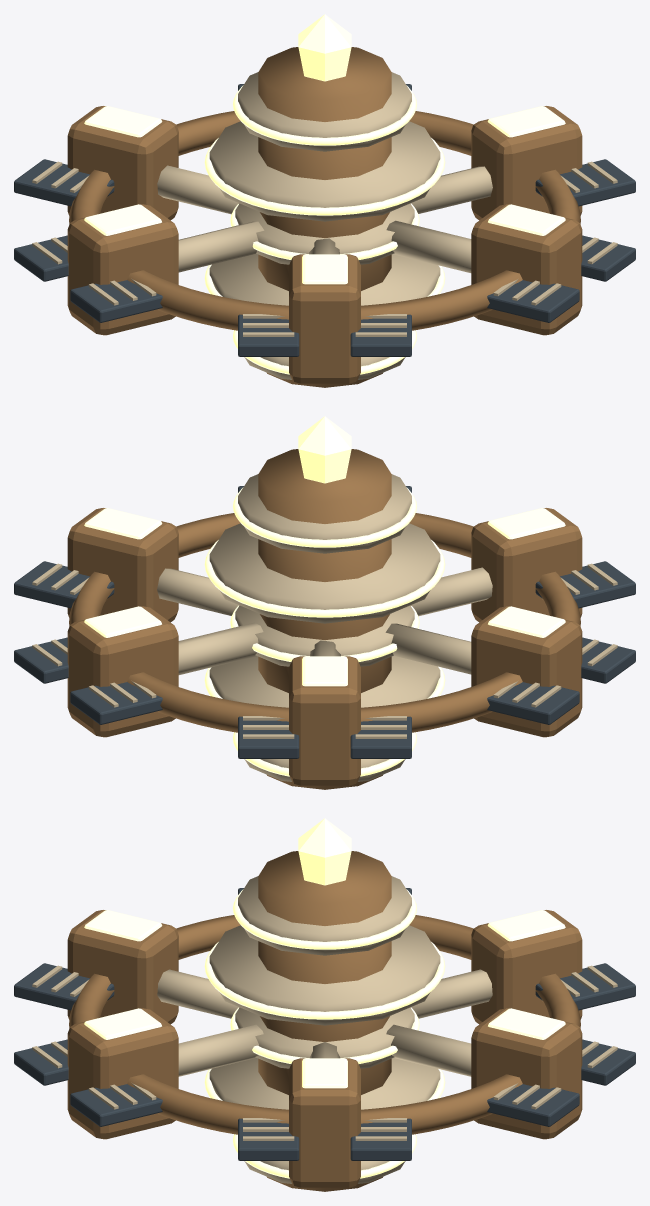
The model's file is skill-station.glb.
3 renders of one model, top to bottom at view 1: azimuth 30°, elevation 25°; view 2: azimuth 150°, elevation 25°; view 3: azimuth 270°, elevation 25°, orthographic.
Parts seen in each view (by area): view 1: idle_rotor_hull.006, body_ceramic.006, idle_rotor_dark.006, body_hull.006, idle_rotor_ceramic.006, body_light.006, idle_rotor_light.006; view 2: idle_rotor_hull.006, body_ceramic.006, idle_rotor_dark.006, body_hull.006, idle_rotor_ceramic.006, body_light.006, idle_rotor_light.006; view 3: idle_rotor_hull.006, body_ceramic.006, idle_rotor_dark.006, idle_rotor_ceramic.006, body_hull.006, body_light.006, idle_rotor_light.006.
Boxes of the visible parts, x1=… form: idle_rotor_hull.006: x1=67, y1=106, x2=582, y2=383; body_ceramic.006: x1=209, y1=72, x2=440, y2=379; idle_rotor_dark.006: x1=14, y1=84, x2=635, y2=356; body_hull.006: x1=258, y1=47, x2=391, y2=387; idle_rotor_ceramic.006: x1=32, y1=161, x2=617, y2=336; body_light.006: x1=204, y1=14, x2=445, y2=374; idle_rotor_light.006: x1=84, y1=106, x2=565, y2=284; idle_rotor_hull.006: x1=67, y1=508, x2=582, y2=785; body_ceramic.006: x1=209, y1=474, x2=440, y2=781; idle_rotor_dark.006: x1=14, y1=486, x2=635, y2=758; body_hull.006: x1=258, y1=449, x2=391, y2=789; idle_rotor_ceramic.006: x1=32, y1=563, x2=617, y2=738; body_light.006: x1=204, y1=416, x2=445, y2=776; idle_rotor_light.006: x1=84, y1=508, x2=565, y2=686; idle_rotor_hull.006: x1=67, y1=910, x2=582, y2=1187; body_ceramic.006: x1=209, y1=876, x2=440, y2=1183; idle_rotor_dark.006: x1=14, y1=888, x2=635, y2=1160; idle_rotor_ceramic.006: x1=32, y1=965, x2=617, y2=1140; body_hull.006: x1=258, y1=851, x2=391, y2=1191; body_light.006: x1=204, y1=818, x2=445, y2=1178; idle_rotor_light.006: x1=84, y1=910, x2=565, y2=1088.
Size of the model in its own units: 1.91 by 1.18 by 1.92.
